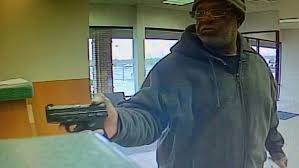gun: (41, 98, 118, 138)
